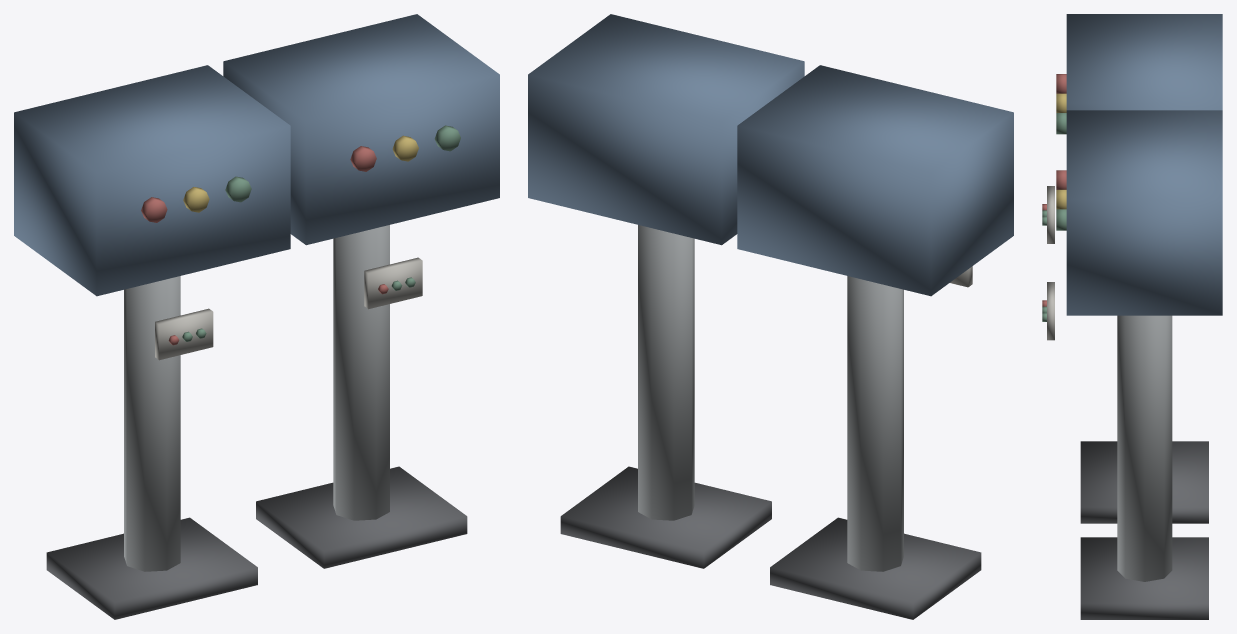
File: pedestal_machine_control__cluster.glb
3 renders of one model, left to right at view 1: azimuth 30°, elevation 25°; view 2: azimuth 150°, elevation 25°; view 3: azimuth 270°, elevation 25°, orthographic. The views are drawn at different scales.
Visible parts, largest first — view 1: world; view 2: world; view 3: world.
Boxes of the visible parts, <box> form: world: <box>14,14,499,619</box>; world: <box>528,14,1013,619</box>; world: <box>1042,14,1222,619</box>.
Bounding box in the file's own units: 0.9568 × 1.04 × 0.3935.
